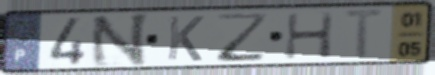4: (47, 15, 89, 68)
H: (283, 10, 337, 61)
K: (164, 14, 206, 63)
N: (88, 11, 152, 69)
T: (341, 7, 389, 62)
Z: (215, 10, 271, 64)
